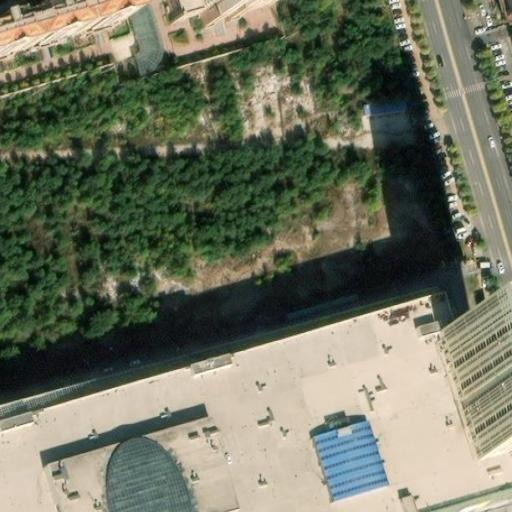building: (441, 317, 512, 460), (0, 0, 129, 59), (363, 97, 410, 118), (165, 0, 200, 18)
